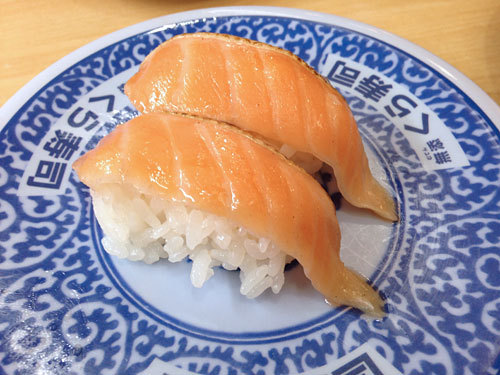salmon: (76, 110, 350, 306), (128, 32, 390, 218)
